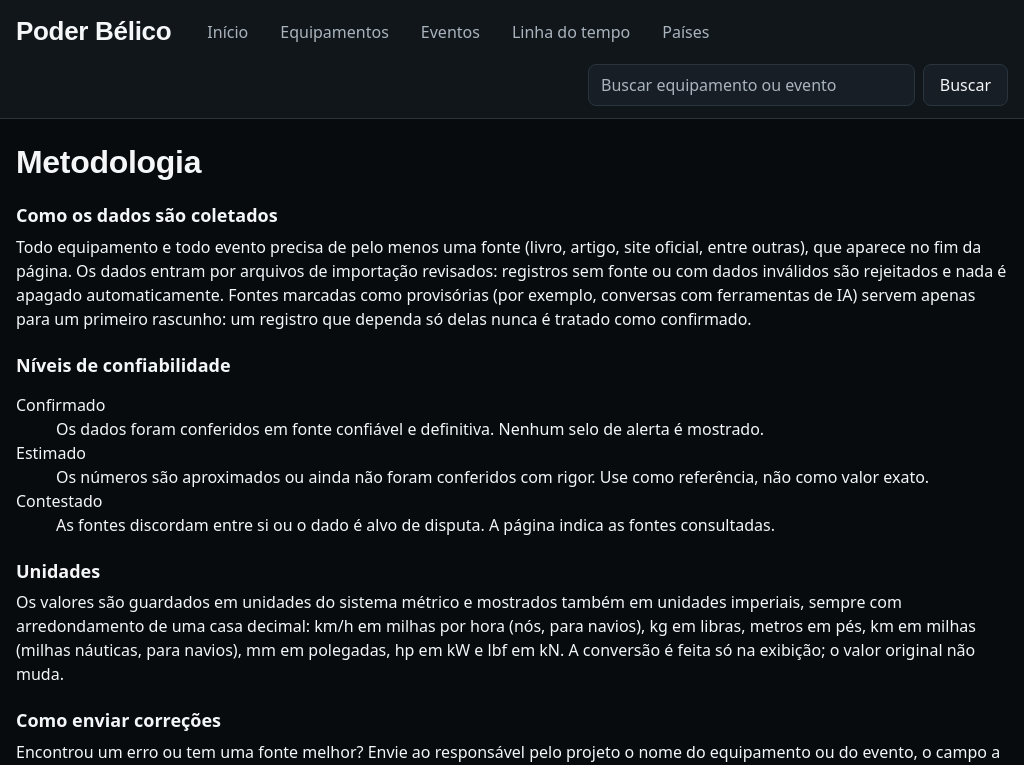
Test case: o campo do cabeçalho leva à página de busca
Type "jutlândia" into the search field labelled "Buscar" at (751, 85), box [588,64,915,106]
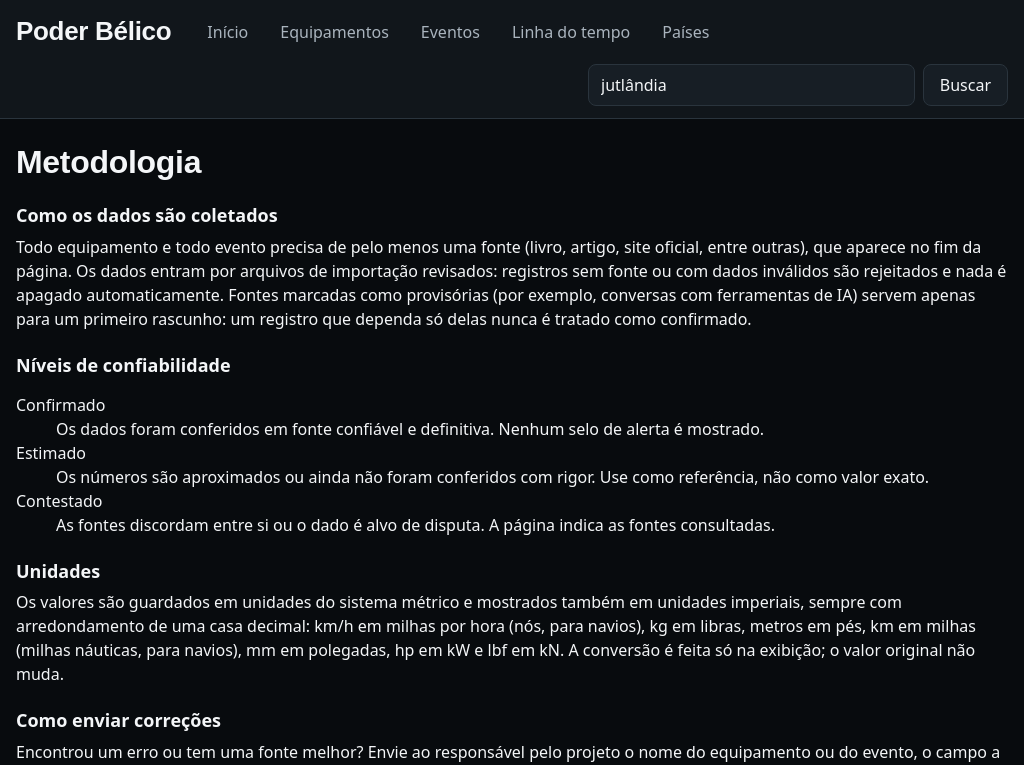
Submit the form "Buscar", box [588,64,1008,106]
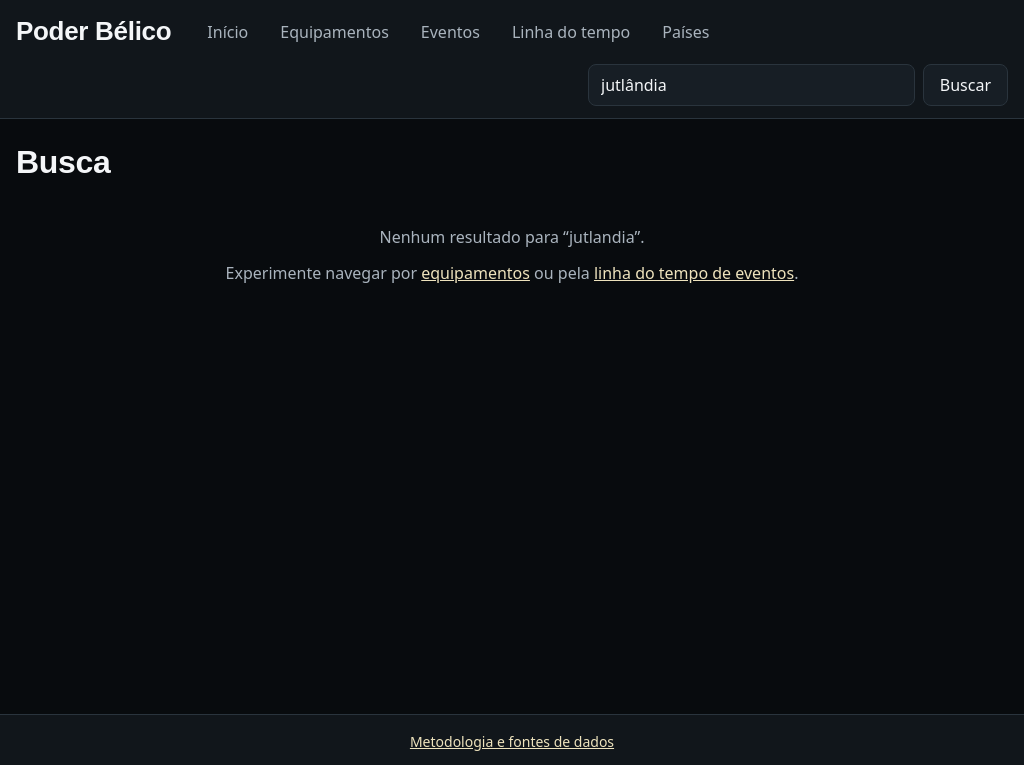
Expected: the heading "Busca" is shown, [16,144,111,180]
